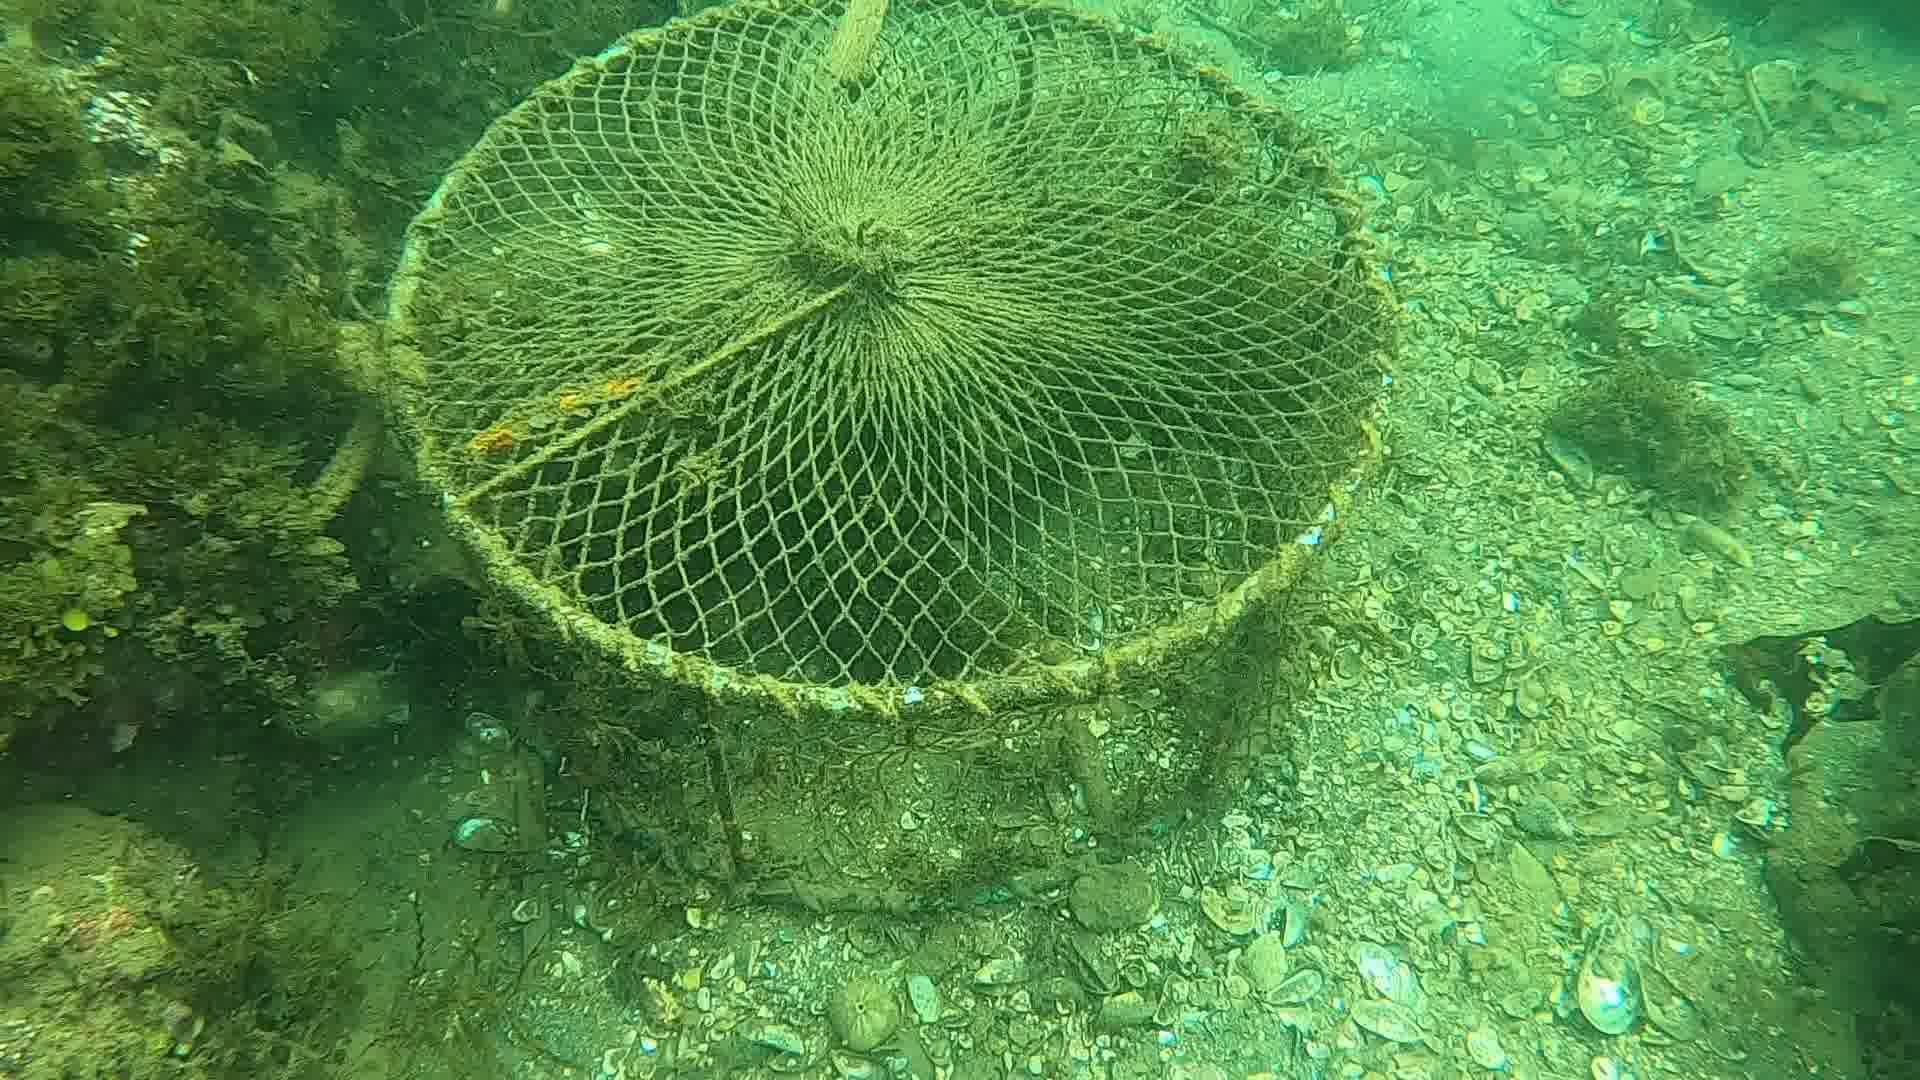circular fish trap: (378, 0, 1404, 910)
